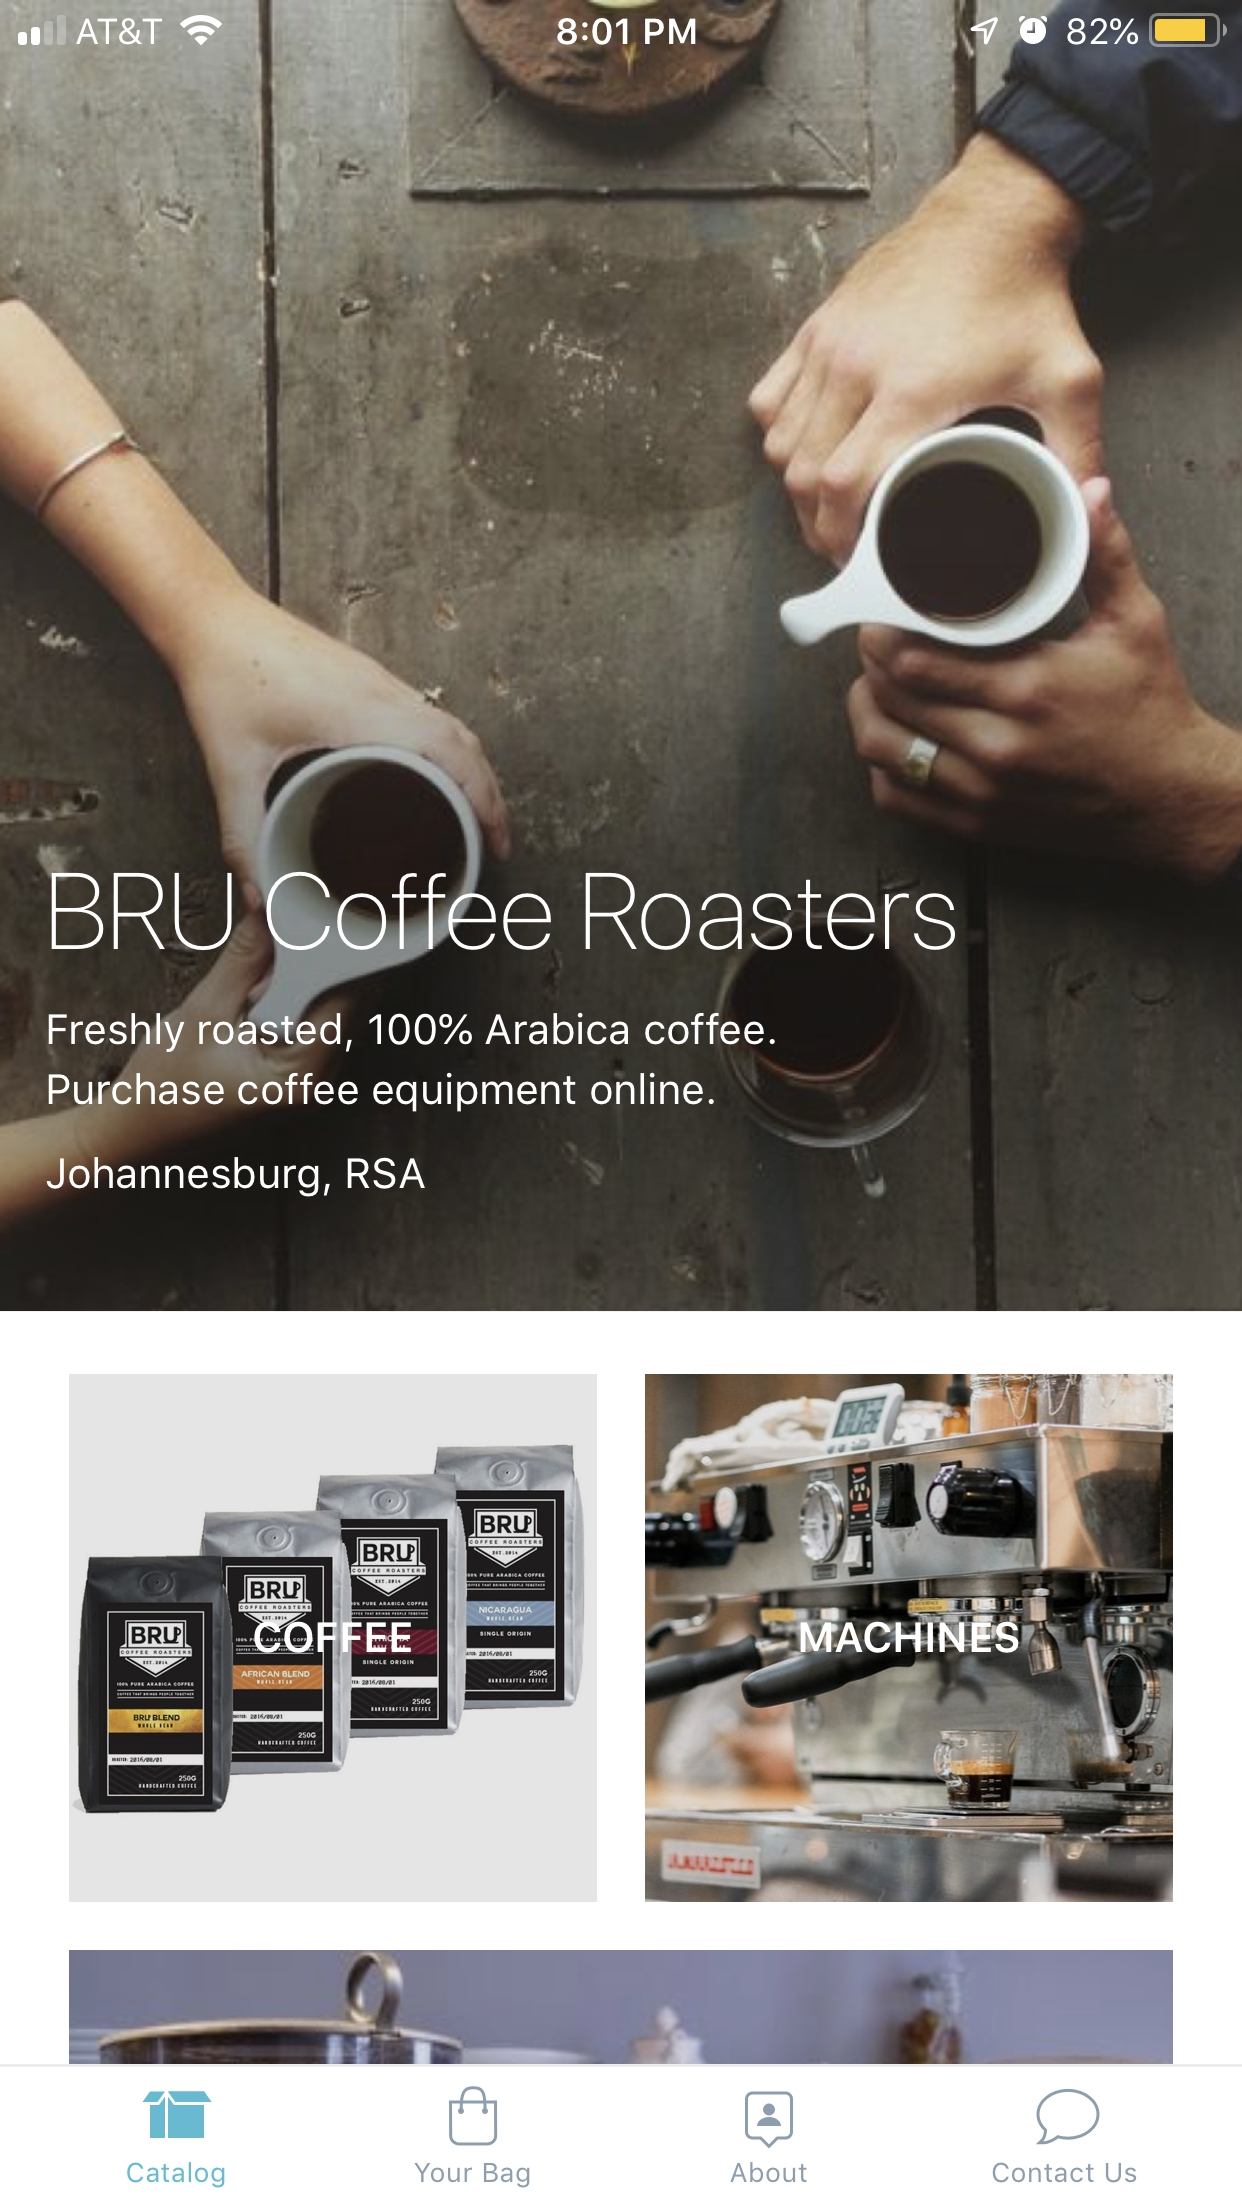Icon: (1036, 2090, 1101, 2146), (447, 2087, 497, 2147), (745, 2090, 795, 2149)
Image: (2, 49, 1242, 1312), (645, 1374, 1174, 1902), (70, 1374, 597, 1903), (70, 1949, 1172, 2064), (143, 2090, 212, 2138)
Text: (52, 870, 955, 952), (49, 1011, 776, 1113), (45, 1156, 426, 1198), (801, 1621, 1021, 1654), (255, 1621, 412, 1654), (992, 2161, 1137, 2184), (414, 2163, 531, 2188), (127, 2163, 226, 2188), (729, 2161, 808, 2184)
UpperTaskBar: (2, 2, 1242, 49)
